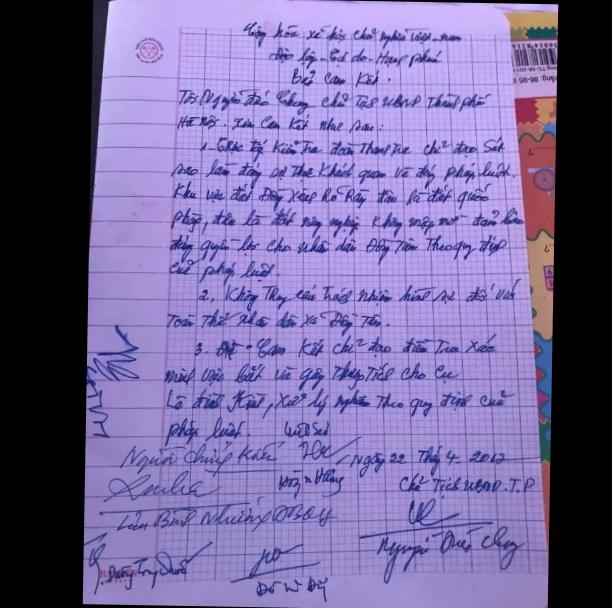text: (165, 378, 518, 424), (167, 198, 527, 242), (198, 268, 525, 316), (173, 152, 515, 194), (168, 227, 508, 268), (170, 176, 494, 215), (192, 326, 500, 366), (163, 354, 462, 395), (197, 129, 506, 168), (363, 518, 529, 586), (174, 85, 494, 119), (112, 494, 335, 539), (86, 530, 216, 598), (96, 468, 251, 524), (165, 304, 388, 340), (352, 493, 498, 547), (347, 440, 542, 480), (118, 434, 284, 480), (241, 17, 464, 51), (229, 540, 336, 606), (165, 412, 332, 449), (174, 110, 386, 136), (268, 44, 446, 74), (395, 468, 538, 500), (166, 255, 278, 288), (274, 466, 350, 499), (289, 66, 385, 90), (300, 432, 364, 468)
